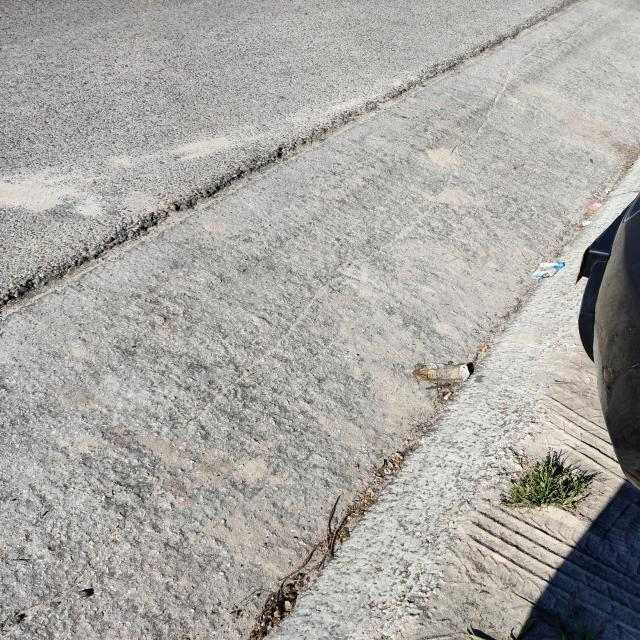litter: (413, 363, 470, 382), (532, 262, 565, 279), (586, 202, 605, 212)
